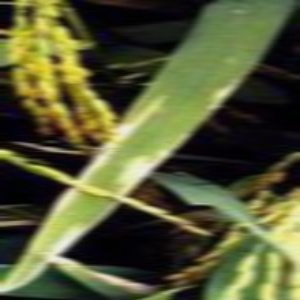Leaf_Blast: (13, 172, 113, 288)
